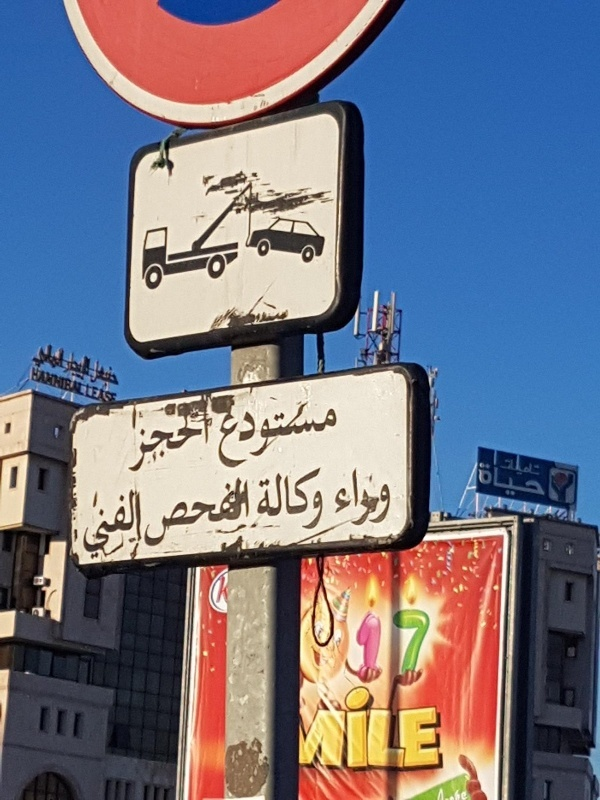text: (305, 683, 320, 775), (321, 683, 336, 775), (337, 683, 352, 775), (353, 683, 368, 775), (369, 683, 384, 775), (385, 683, 400, 775), (401, 683, 416, 775), (417, 683, 432, 775), (129, 485, 145, 567), (97, 485, 112, 567), (113, 485, 128, 567), (225, 397, 240, 474), (241, 397, 256, 474), (257, 397, 272, 474), (273, 397, 288, 474), (289, 397, 304, 474), (305, 397, 320, 474), (321, 397, 336, 474), (161, 474, 176, 549), (177, 474, 192, 549), (193, 474, 208, 549), (209, 474, 224, 549), (225, 474, 240, 549), (369, 608, 384, 681), (385, 608, 400, 681), (401, 608, 416, 681), (145, 407, 160, 476), (161, 407, 176, 476), (177, 407, 192, 476), (193, 407, 208, 476), (417, 608, 431, 681), (337, 461, 352, 528), (353, 461, 368, 528), (369, 461, 384, 528), (385, 461, 400, 528), (257, 466, 272, 532), (273, 466, 288, 532), (289, 466, 304, 532), (305, 466, 320, 532), (355, 608, 368, 681), (85, 485, 96, 567), (241, 474, 253, 549), (133, 407, 144, 476), (433, 683, 441, 775), (151, 474, 160, 549), (481, 455, 496, 499), (497, 455, 512, 499), (513, 455, 528, 499), (529, 455, 544, 499), (49, 340, 64, 374), (97, 358, 112, 391), (497, 448, 512, 480), (513, 448, 528, 480), (529, 448, 544, 480), (33, 365, 48, 397), (49, 365, 64, 397), (65, 365, 80, 397), (218, 397, 224, 474), (299, 683, 304, 775), (81, 350, 93, 383), (37, 340, 48, 374), (69, 350, 80, 383), (209, 407, 214, 476), (321, 466, 326, 532), (97, 383, 112, 405), (113, 358, 122, 391), (215, 574, 224, 606), (86, 383, 96, 405), (225, 574, 231, 606), (113, 383, 119, 405), (81, 365, 85, 397), (65, 340, 68, 374), (493, 448, 496, 480), (545, 455, 547, 499), (337, 397, 338, 474), (255, 466, 256, 532), (94, 358, 96, 391), (545, 448, 546, 480), (31, 365, 32, 397)
